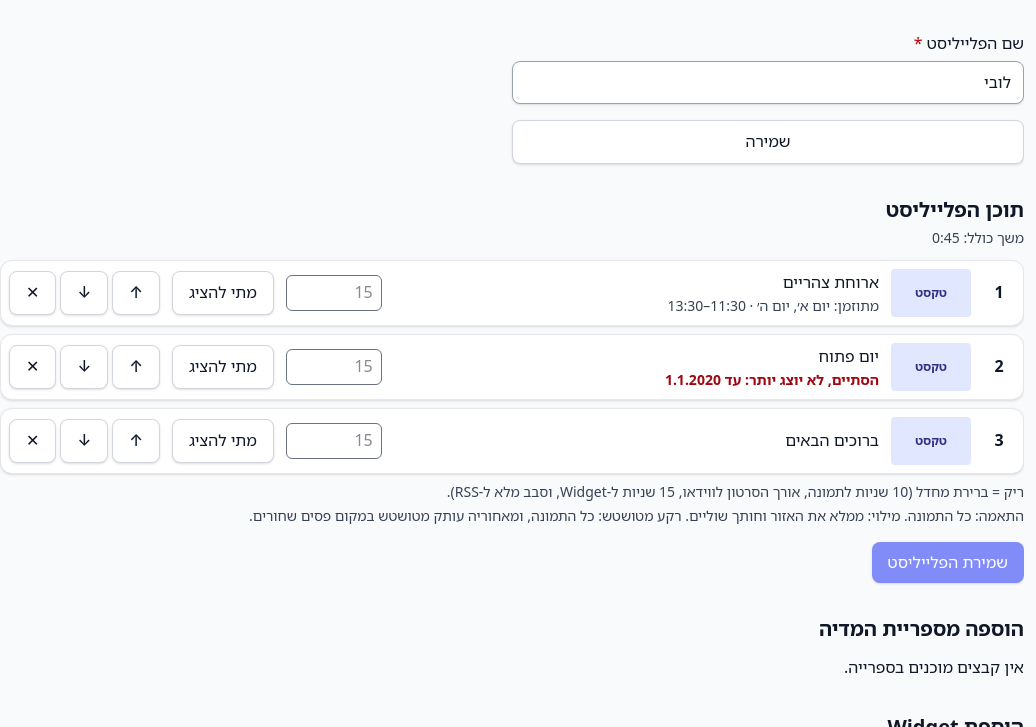
Test: playlist item time windows › shows each window in words, and edits one with labelled fields
Check: the 1st list item reads "1 טקסט ארוחת צהריים מתוזמן: יום א׳, יום ה׳ · 11:30–13:30 מתי להציג ↑ ↓ ✕", box left=0, top=260, right=1024, bottom=326
Check: the 2nd list item shows "הסתיים, לא יוצג יותר", box left=749, top=370, right=879, bottom=389
Click the button "מתי להציג" in the row of "ברוכים הבאים": (223, 441) left=172, top=419, right=274, bottom=463
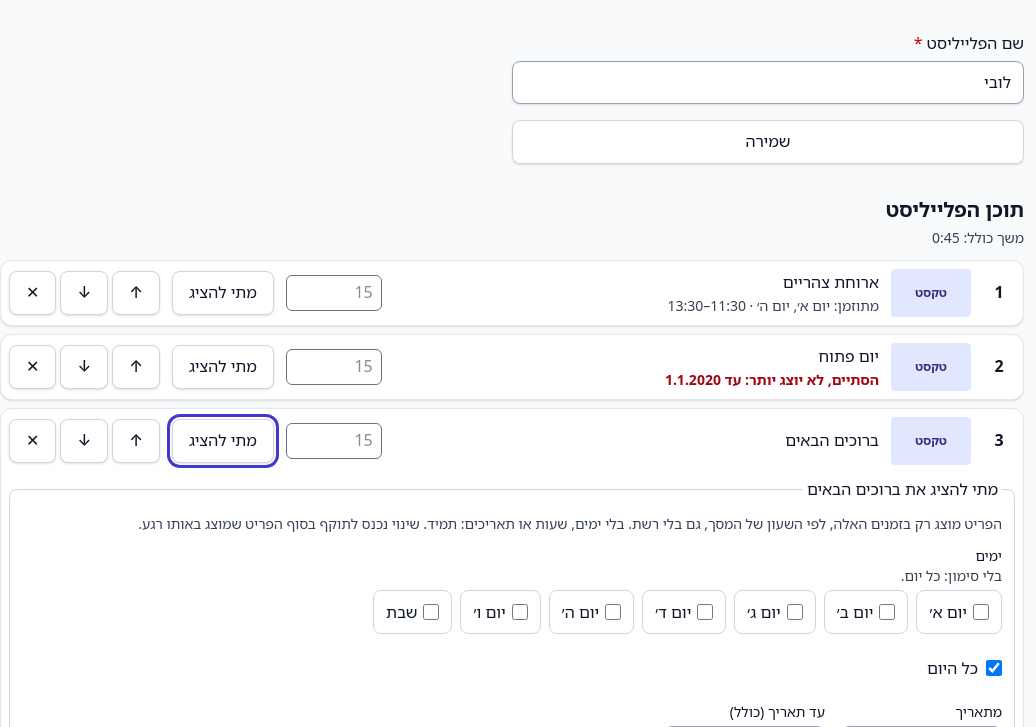
Click the checkbox labelled "יום ו׳": (520, 612) left=512, top=604, right=528, bottom=620
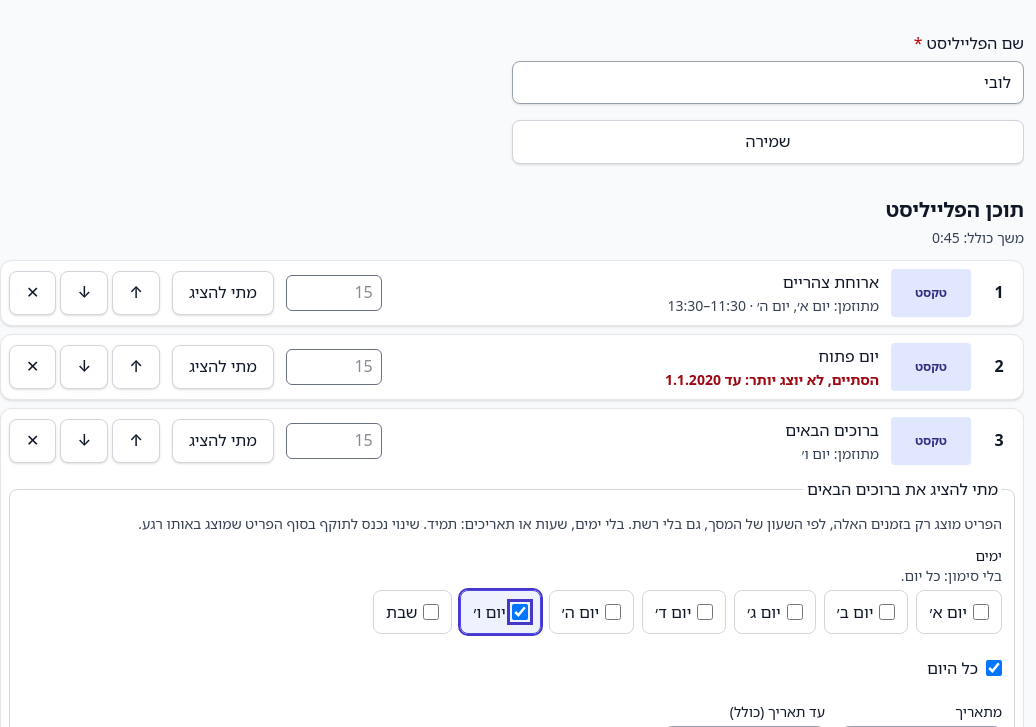
Click the checkbox labelled "כל היום": (994, 668) left=986, top=660, right=1002, bottom=676
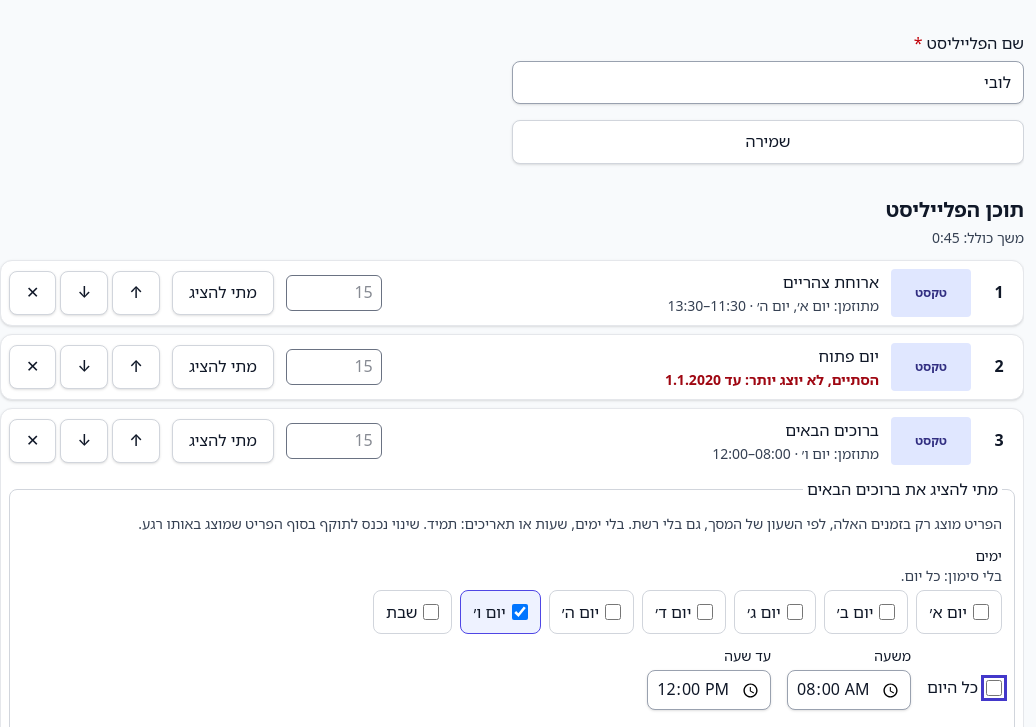
// Back to "always" for the lunch item: no window is sent for it.
Click the button "מתי להציג" in the row of "ארוחת צהריים": (223, 293) left=172, top=271, right=274, bottom=315
(page scrolled)
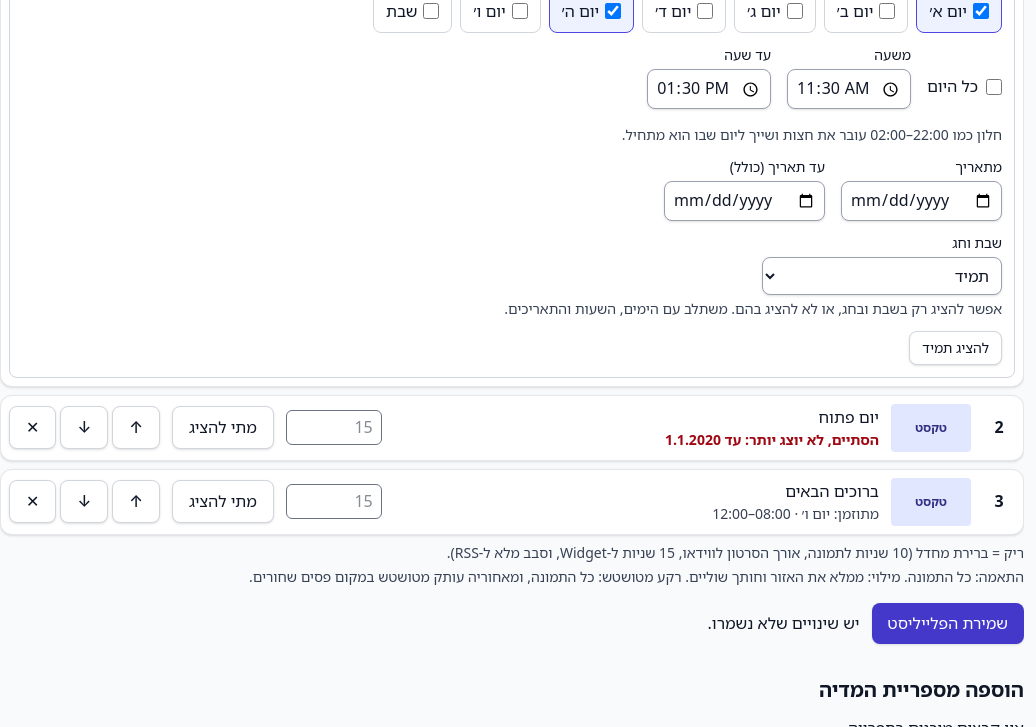
Click the button "להציג תמיד": (956, 348) left=909, top=331, right=1002, bottom=365
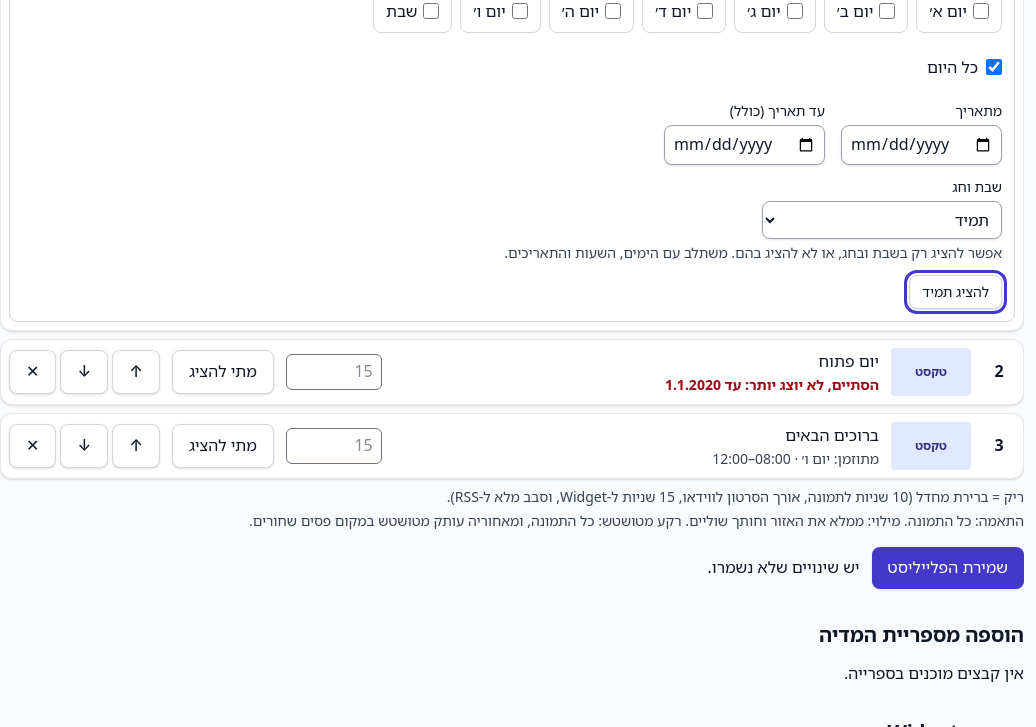
Click the button "שמירת הפלייליסט": (948, 568) left=872, top=547, right=1024, bottom=589
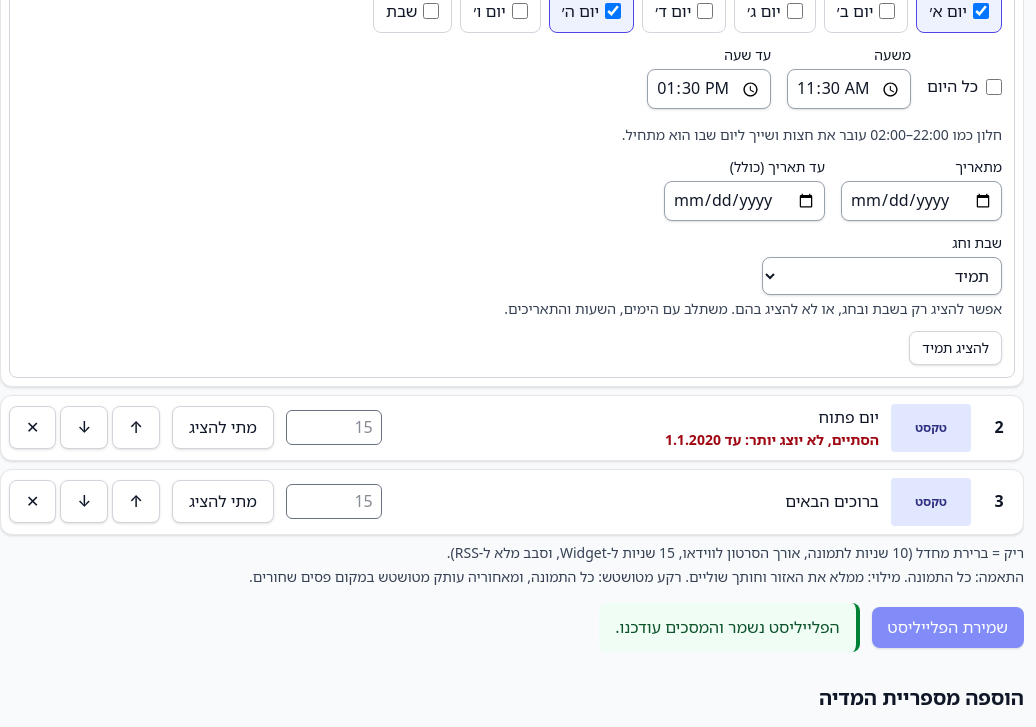
Check: the text "הפלייליסט נשמר והמסכים עודכנו." is shown, box left=599, top=603, right=860, bottom=652
